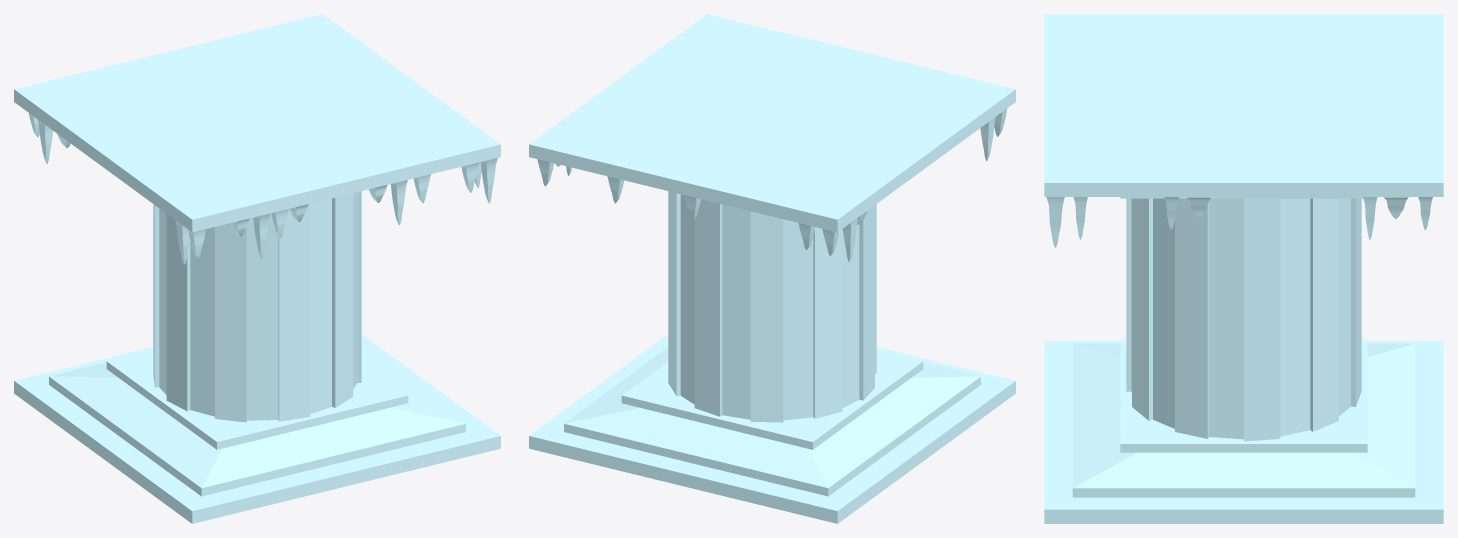
The model's file is pillarIce.fbx.
3 renders of one model, left to right at view 1: azimuth 30°, elevation 25°; view 2: azimuth 150°, elevation 25°; view 3: azimuth 270°, elevation 25°, orthographic. The views are drawn at different scales.
Parts seen in each view (by area): view 1: pillarIce; view 2: pillarIce; view 3: pillarIce.
Part boxes in pixels (x1,y1,x2,y2): pillarIce: [14, 14, 500, 523]; pillarIce: [529, 14, 1015, 523]; pillarIce: [1044, 14, 1443, 523].
Size of the model in its own units: 1031 by 971 by 1031.
